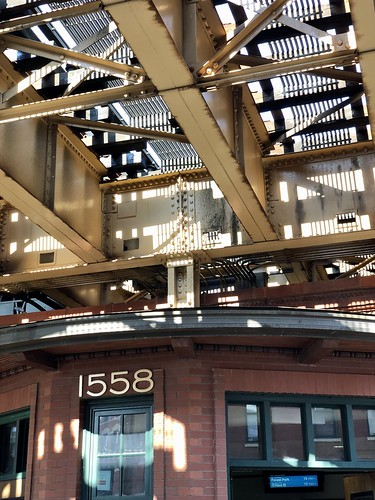building: (1, 307, 375, 500)
door: (90, 399, 149, 500)
window: (227, 396, 375, 469)
